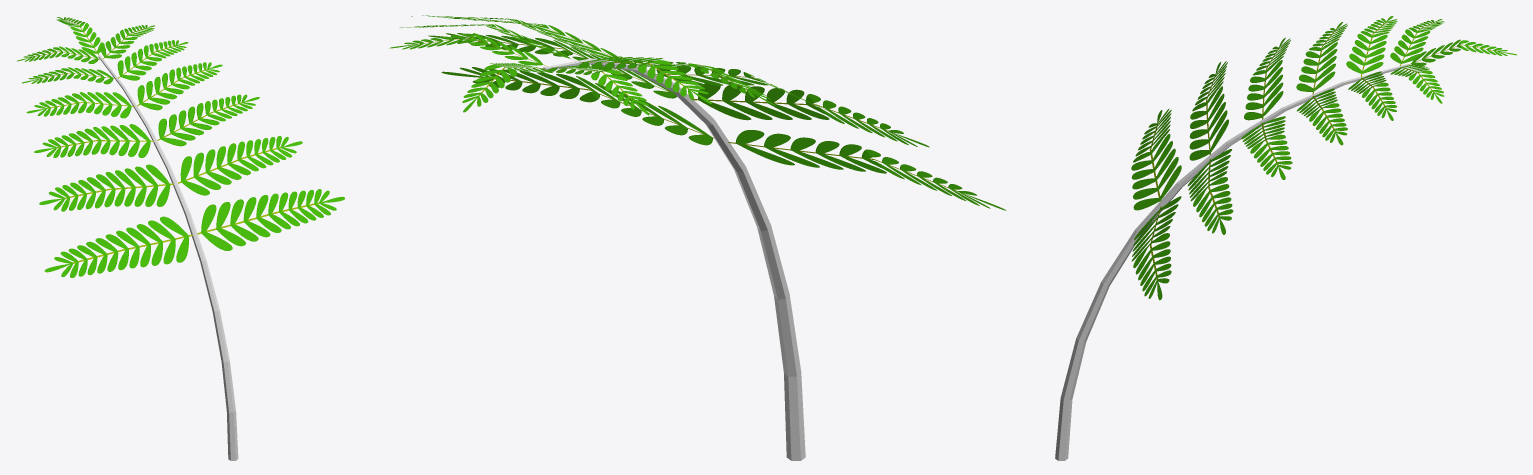
File: Plant4_1.fbx
The picture shows the model from 3 angles, left to right: view 1: azimuth 30°, elevation 25°; view 2: azimuth 150°, elevation 25°; view 3: azimuth 270°, elevation 25°; orthographic projection. The views are drawn at different scales.
Visible parts, largest first — view 1: Plant4_1; view 2: Plant4_1; view 3: Plant4_1.
Part boxes in pixels (x1=…): Plant4_1: x1=17, y1=17, x2=344, y2=460; Plant4_1: x1=389, y1=15, x2=1005, y2=460; Plant4_1: x1=1055, y1=16, x2=1516, y2=460.
Bounding box in the file's own units: 155 × 156 × 159.
